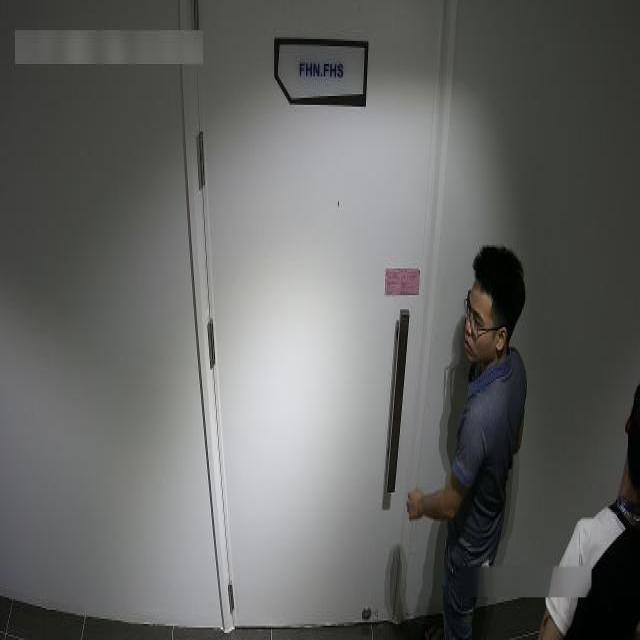bare_hand: (402, 482, 440, 537)
